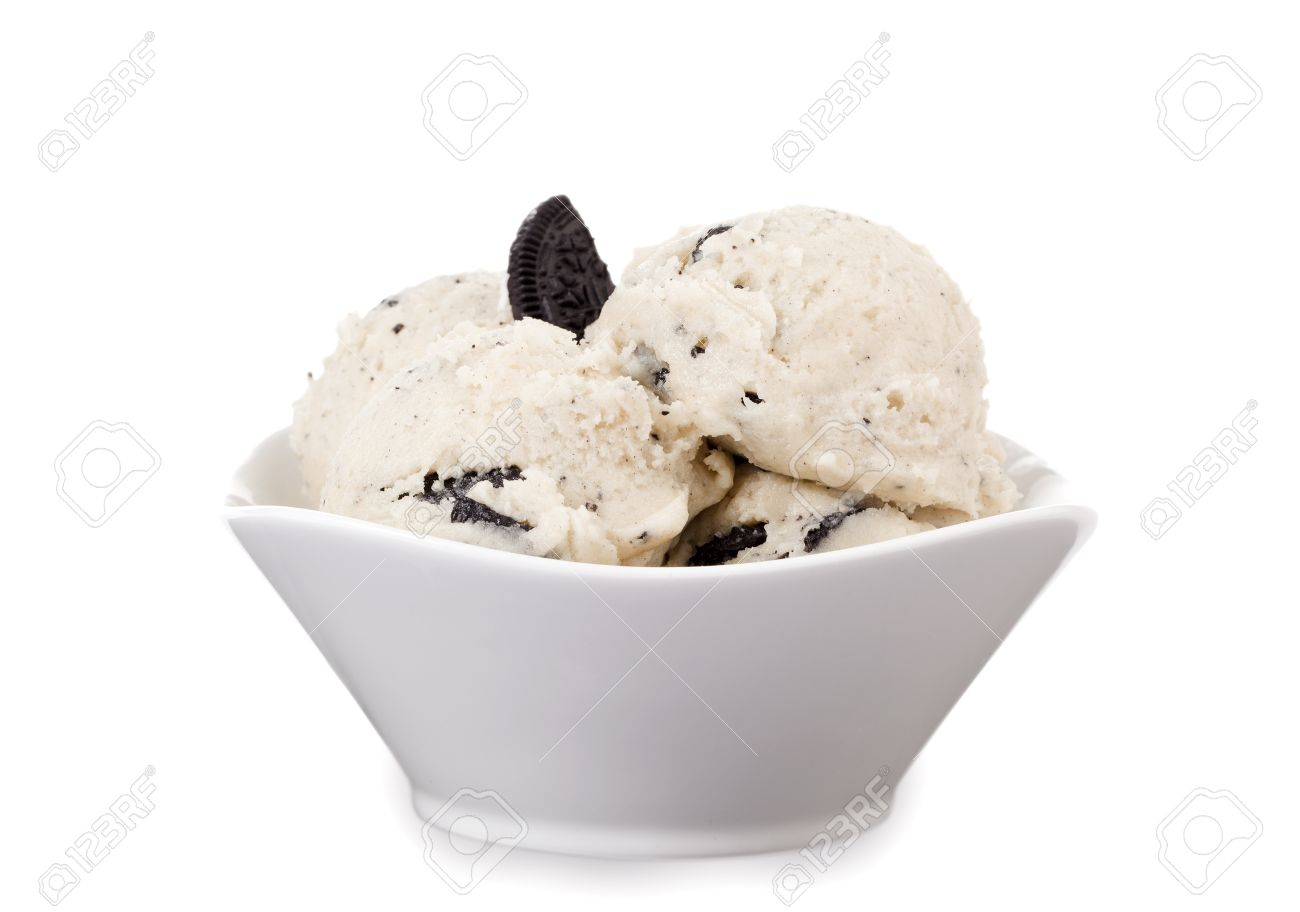ice-cream: (291, 265, 693, 562), (616, 208, 999, 517)
